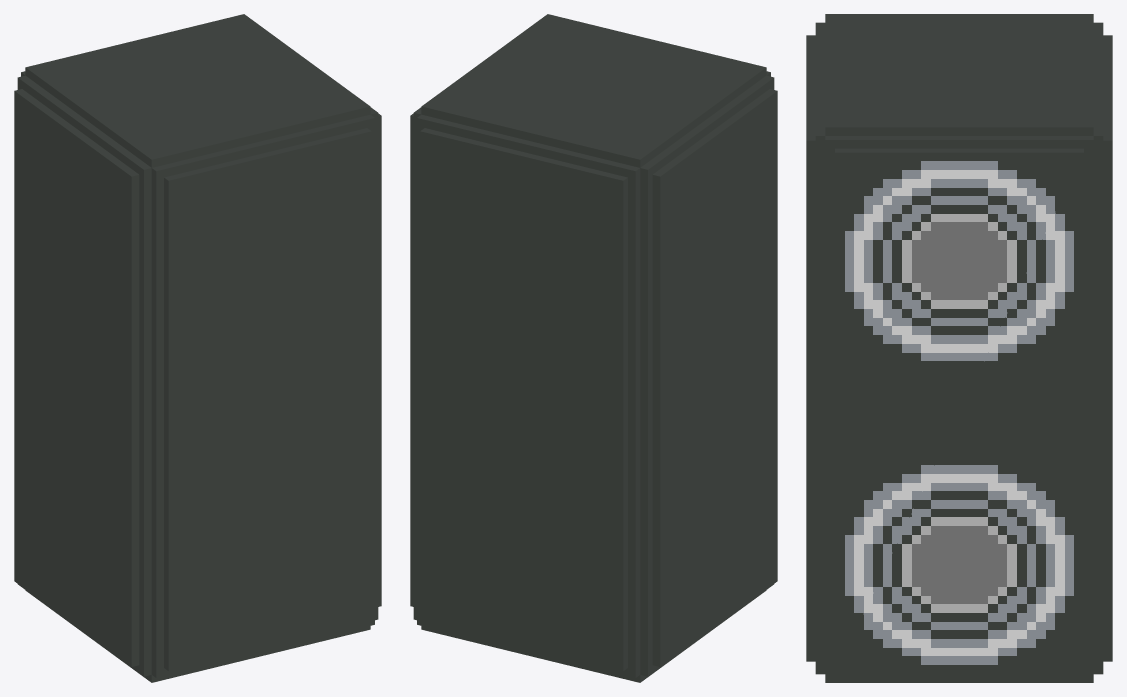
The picture shows the model from 3 angles, left to right: view 1: azimuth 30°, elevation 25°; view 2: azimuth 150°, elevation 25°; view 3: azimuth 270°, elevation 25°; orthographic projection. The views are drawn at different scales.
Visible parts, largest first — view 1: Object; view 2: Object; view 3: Object.
Boxes of the visible parts, <box> form: Object: <box>14,14,381,682</box>; Object: <box>410,14,777,682</box>; Object: <box>806,14,1112,682</box>.
Size of the model in its own units: 32 by 64 by 32.
1 material, 1 textured.
